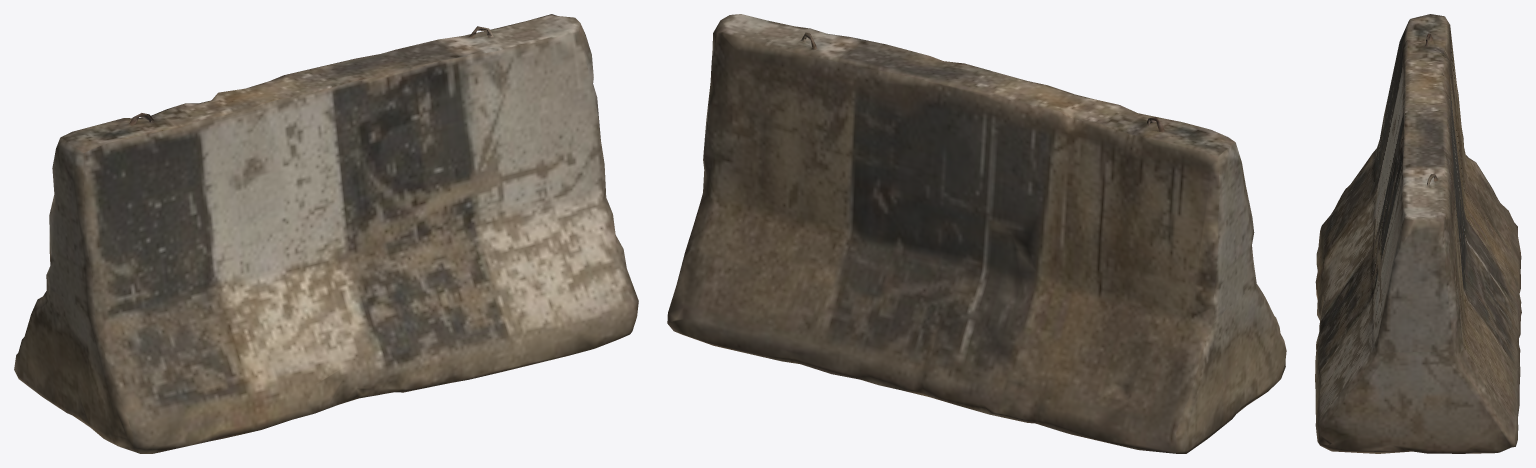
Rendered from concrete_road_barrier.glb.
3 renders of one model, left to right at view 1: azimuth 30°, elevation 25°; view 2: azimuth 150°, elevation 25°; view 3: azimuth 270°, elevation 25°, orthographic. The views are drawn at different scales.
Parts seen in each view (by area): view 1: concrete_road_barrier; view 2: concrete_road_barrier; view 3: concrete_road_barrier.
Part boxes in pixels (x1=…): concrete_road_barrier: x1=14, y1=14, x2=638, y2=453; concrete_road_barrier: x1=667, y1=14, x2=1286, y2=453; concrete_road_barrier: x1=1315, y1=14, x2=1521, y2=453.
Size of the model in its own units: 1.54 by 0.827 by 0.6333.
Materials: 1 (1 with a texture image).
